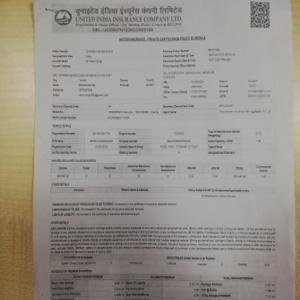image: (52, 5, 183, 32)
table: (51, 127, 275, 160), (50, 273, 278, 297), (50, 252, 280, 274), (49, 162, 277, 181)
text: (49, 71, 275, 102), (47, 225, 277, 254), (46, 43, 235, 69), (44, 198, 177, 218)
